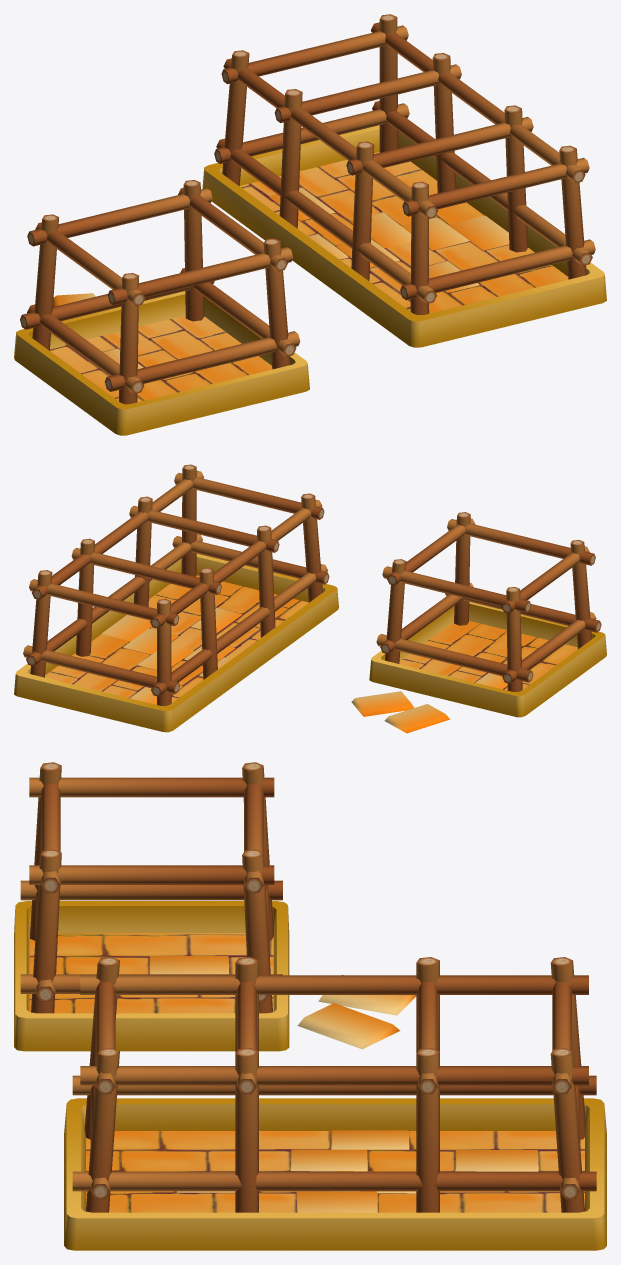
File: ArabianHouse_M_10.fbx
3 renders of one model, top to bottom at view 1: azimuth 30°, elevation 25°; view 2: azimuth 150°, elevation 25°; view 3: azimuth 270°, elevation 25°, orthographic. The views are drawn at different scales.
Parts seen in each view (by area): view 1: ArabianHouse_M_10; view 2: ArabianHouse_M_10; view 3: ArabianHouse_M_10.
Boxes of the visible parts, x1=… form: ArabianHouse_M_10: x1=14, y1=14, x2=606, y2=435; ArabianHouse_M_10: x1=14, y1=464, x2=606, y2=733; ArabianHouse_M_10: x1=14, y1=762, x2=606, y2=1250.
Bounding box in the file's own units: 7.95 × 2.19 × 6.34.
